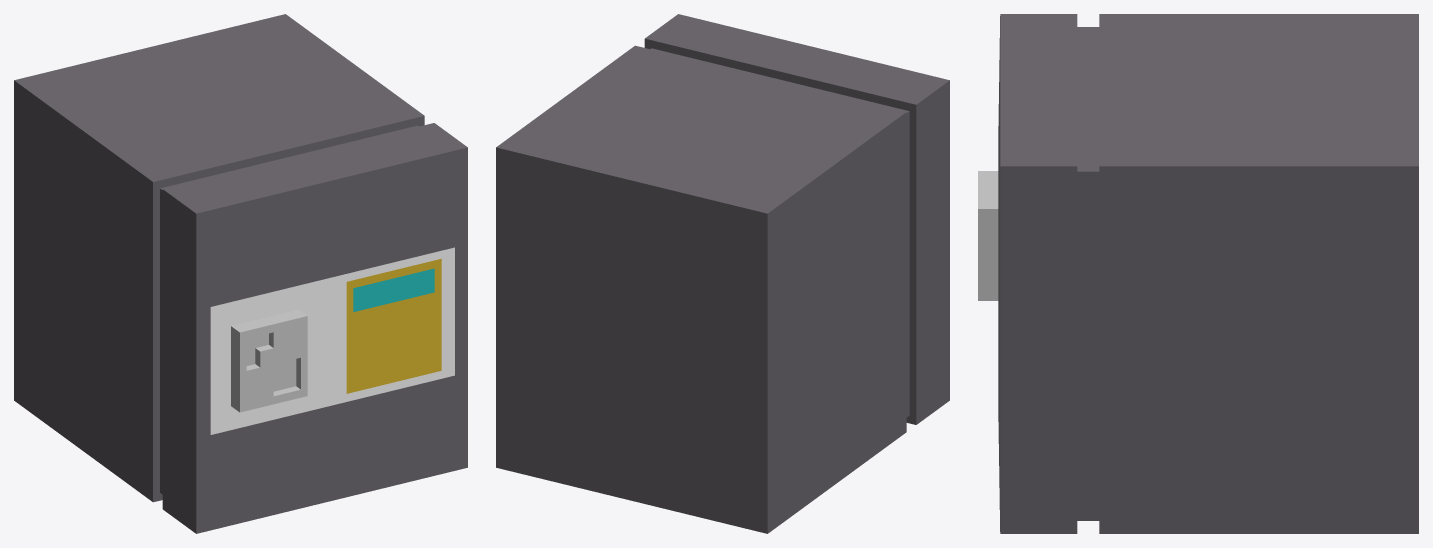
The model's file is Electronic Safe.fbx.
3 renders of one model, left to right at view 1: azimuth 30°, elevation 25°; view 2: azimuth 150°, elevation 25°; view 3: azimuth 270°, elevation 25°, orthographic. The views are drawn at different scales.
Visible parts, largest first — view 1: Electronic_safe; view 2: Electronic_safe; view 3: Electronic_safe.
Boxes of the visible parts, x1,y1,x2,y2 form: Electronic_safe: (14,14,467,533); Electronic_safe: (496,14,949,533); Electronic_safe: (978,14,1418,533).
Size of the model in its own units: 0.3935 by 0.4434 by 0.4815.
Materials: 1 (1 with a texture image).
